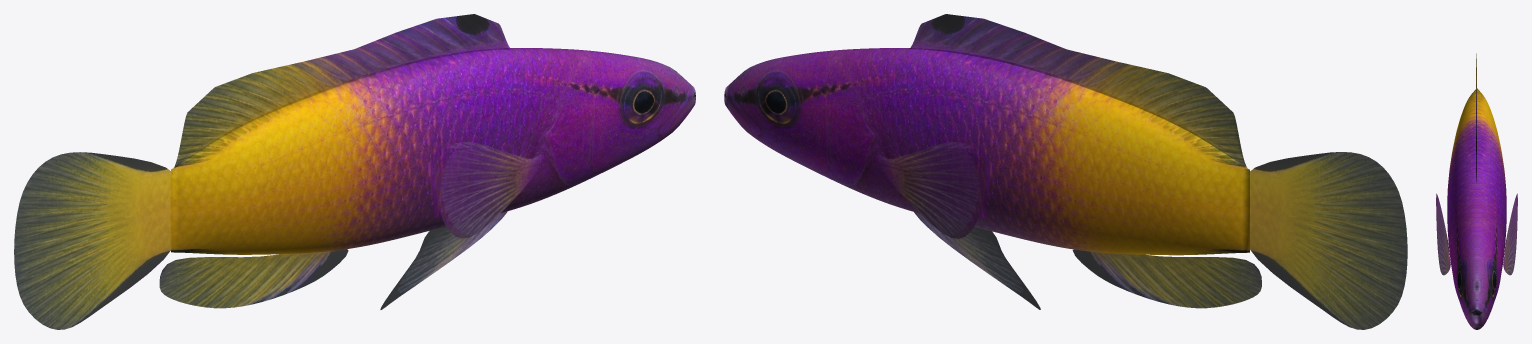
The model's file is gramma-BgdGKcNy.glb.
3 views of the same model, side by side, from view 1: azimuth 30°, elevation 25°; view 2: azimuth 150°, elevation 25°; view 3: azimuth 270°, elevation 25° (orthographic). The views are drawn at different scales.
Visible parts, largest first — view 1: gramma__body, gramma__fin_0, gramma__fin_1, gramma__fin_2, gramma__pectoral_1, gramma__gill_1, gramma__fin_3, gramma__eye_1; view 2: gramma__body, gramma__fin_0, gramma__fin_1, gramma__fin_2, gramma__pectoral_-1, gramma__gill_-1, gramma__fin_3, gramma__eye_-1; view 3: gramma__body, gramma__pectoral_1, gramma__pectoral_-1, gramma__gill_1, gramma__gill_-1, gramma__eye_1, gramma__eye_-1, gramma__fin_1.
Boxes of the visible parts, x1,y1,x2,y2 form: gramma__body: (171, 48, 695, 254); gramma__fin_0: (14, 152, 172, 329); gramma__fin_1: (172, 14, 511, 170); gramma__fin_2: (159, 249, 348, 308); gramma__pectoral_1: (434, 148, 539, 238); gramma__gill_1: (556, 88, 610, 189); gramma__fin_3: (380, 211, 507, 309); gramma__eye_1: (628, 84, 657, 120); gramma__body: (724, 48, 1249, 255); gramma__fin_0: (1250, 152, 1407, 329); gramma__fin_1: (909, 14, 1247, 167); gramma__fin_2: (1072, 249, 1261, 308); gramma__pectoral_-1: (880, 148, 986, 238); gramma__gill_-1: (809, 88, 863, 189); gramma__fin_3: (914, 212, 1040, 309); gramma__eye_-1: (762, 84, 791, 120); gramma__body: (1447, 88, 1506, 329); gramma__pectoral_1: (1436, 193, 1450, 275); gramma__pectoral_-1: (1503, 193, 1517, 275); gramma__gill_1: (1452, 230, 1458, 299); gramma__gill_-1: (1495, 230, 1501, 299); gramma__eye_1: (1457, 267, 1463, 294); gramma__eye_-1: (1490, 267, 1496, 294); gramma__fin_1: (1476, 53, 1476, 182).
Size of the model in its own units: 1.3 by 0.5071 by 0.1836.
Materials: 4 (4 with a texture image).
